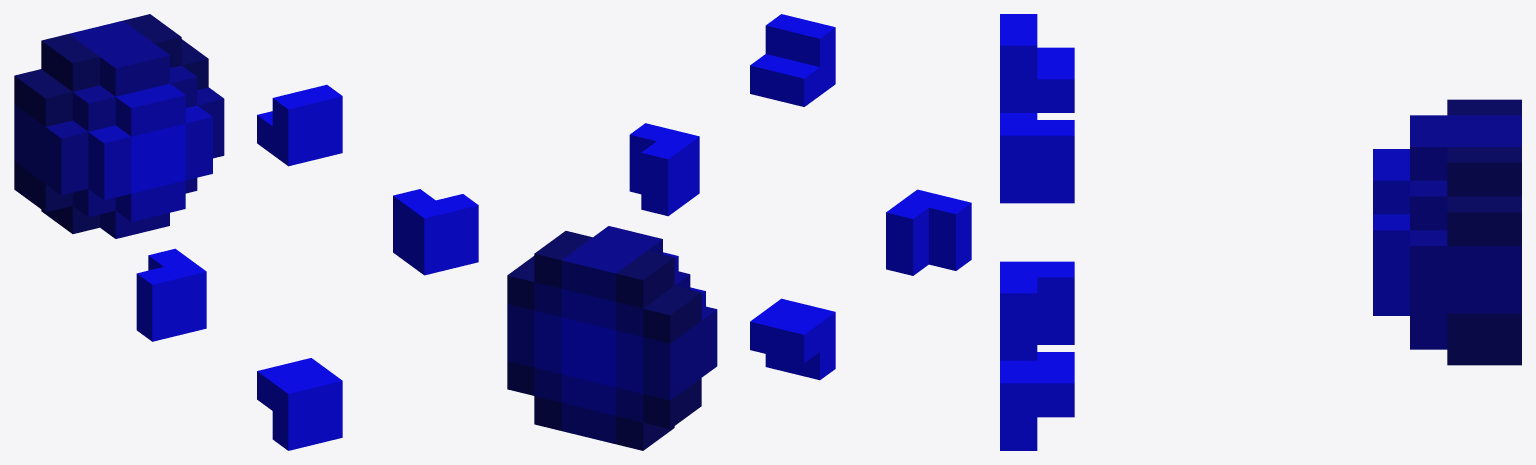
Rendered from Bot -11.obj.
3 views of the same model, side by side, from view 1: azimuth 30°, elevation 25°; view 2: azimuth 150°, elevation 25°; view 3: azimuth 270°, elevation 25° (orthographic). The views are drawn at different scales.
Parts seen in each view (by area): view 1: Bot -11; view 2: Bot -11; view 3: Bot -11.
Boxes of the visible parts, x1,y1,x2,y2 form: Bot -11: (14,14,478,450); Bot -11: (507,14,971,450); Bot -11: (1000,14,1521,450).
Size of the model in its own units: 12 by 12 by 14.
1 material, 1 textured.
